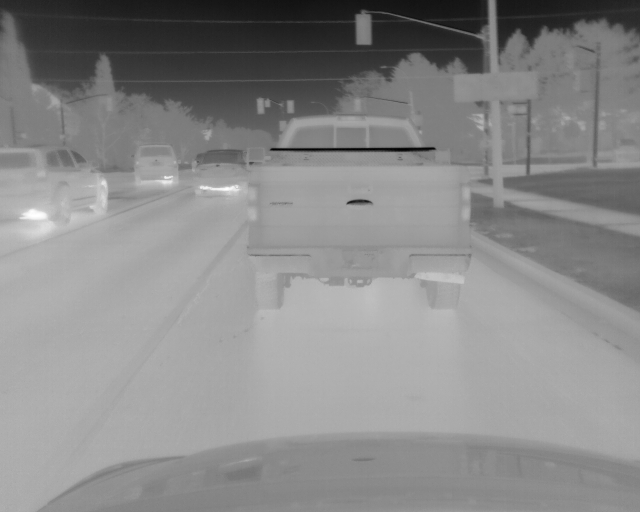car: (247, 111, 473, 312), (1, 145, 110, 225), (191, 148, 249, 193), (133, 143, 178, 185)
